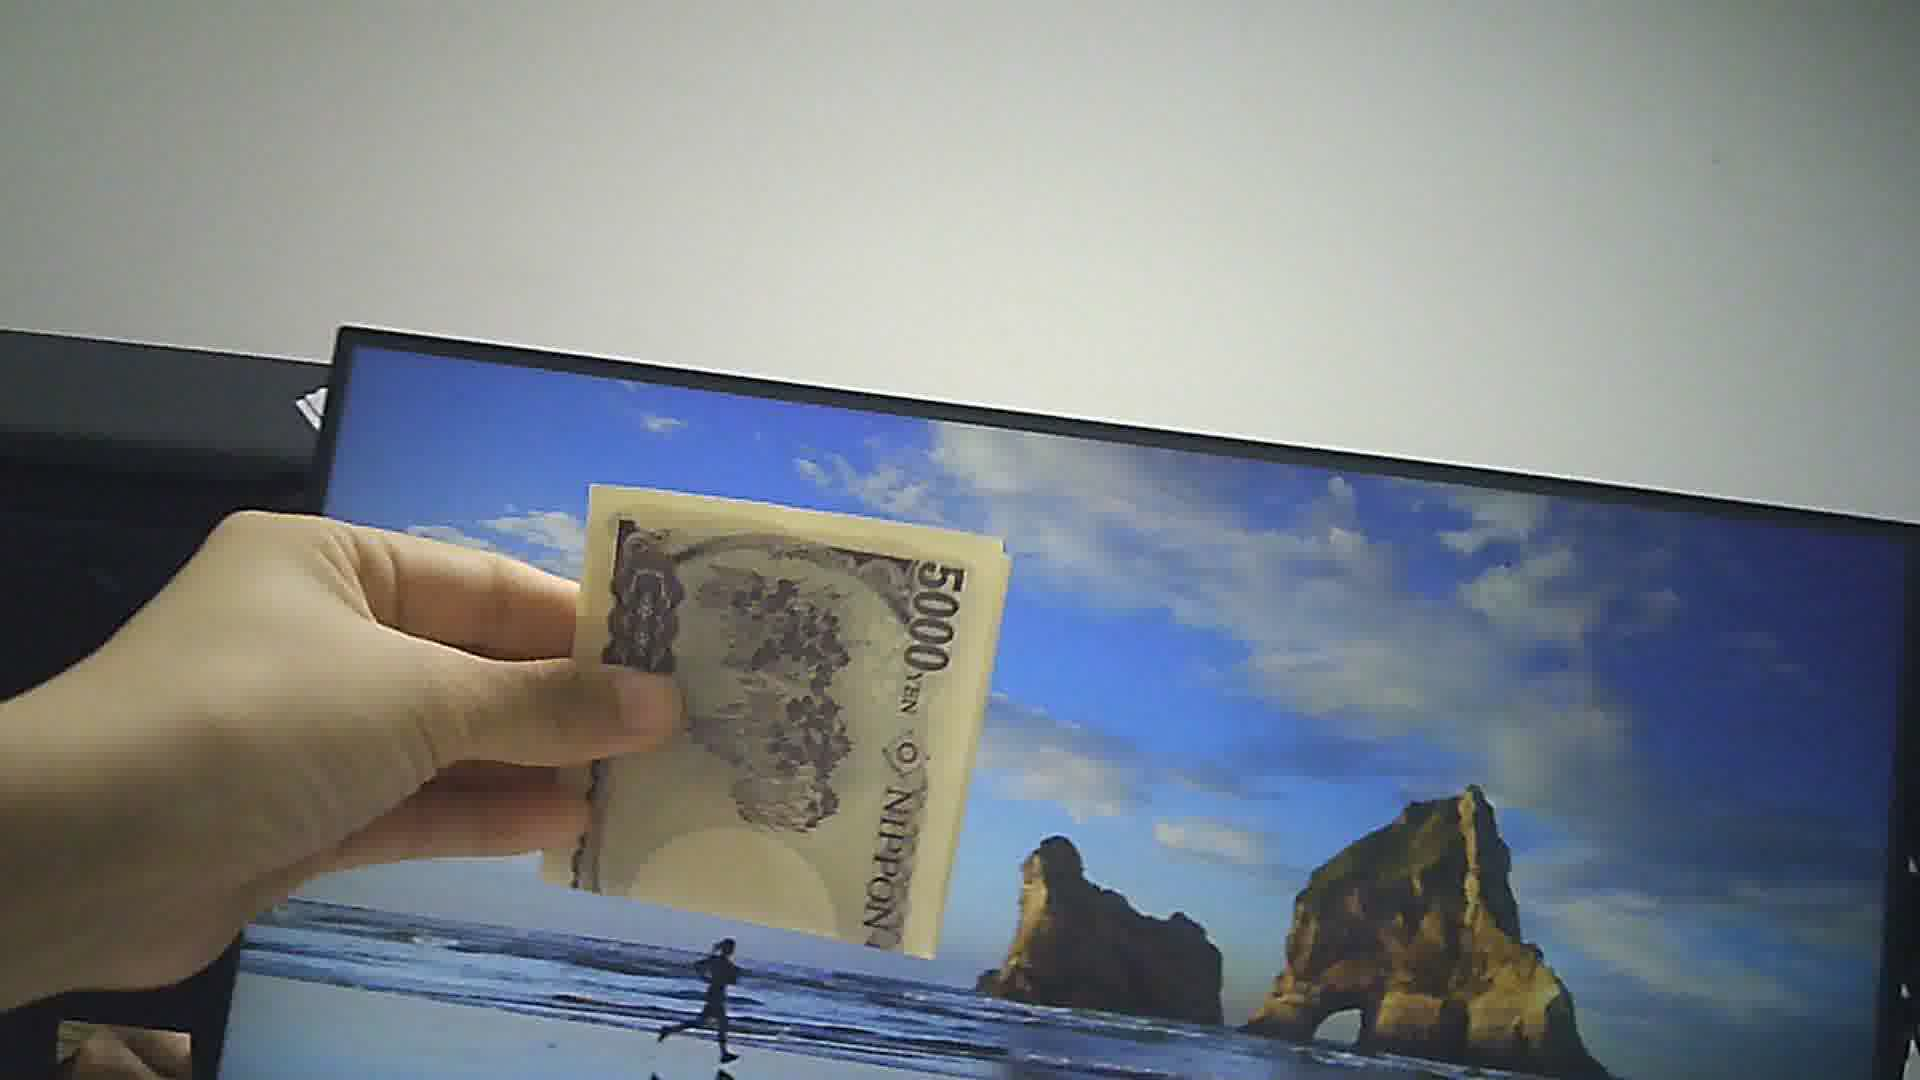5,000 Yen: (538, 472, 1015, 978)
